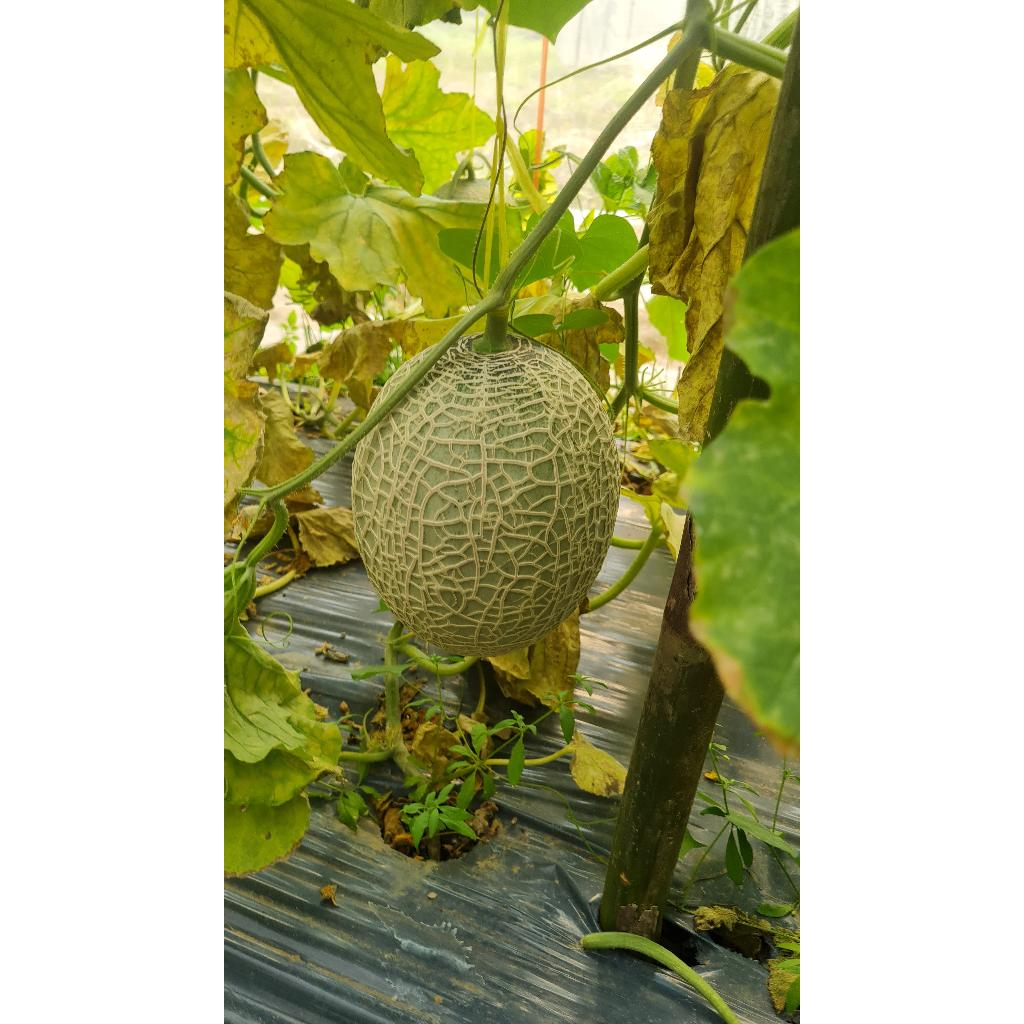melon: (352, 336, 620, 656)
